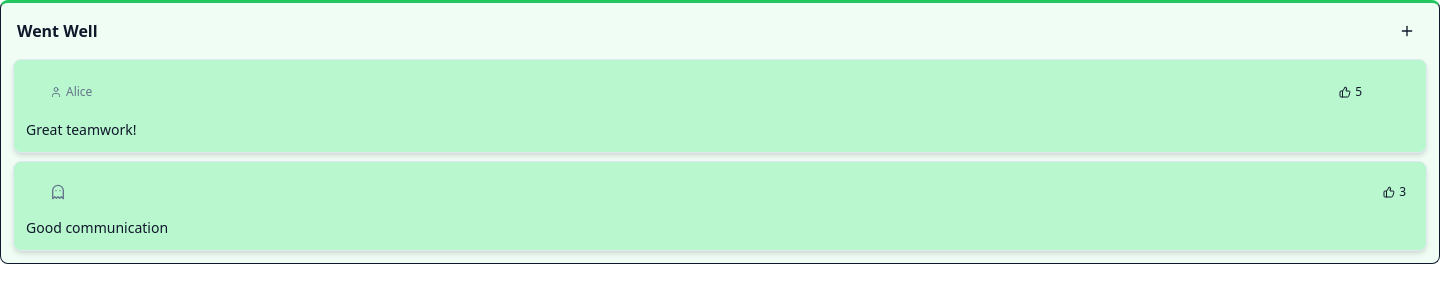
Test: RetroColumn › Edit Column Title (Admin) › should cancel edit when Escape is pressed
This screenshot has width=1440, height=281.
Click the button with aria-label "edit column name".
click(57, 31)  # box [17, 19, 98, 43]
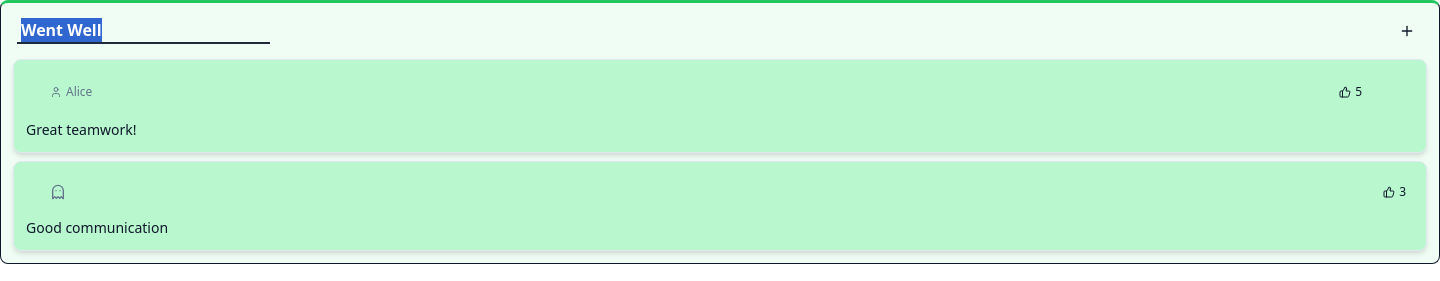
Check: the field is shown, box [17, 18, 270, 44]
Press Escape
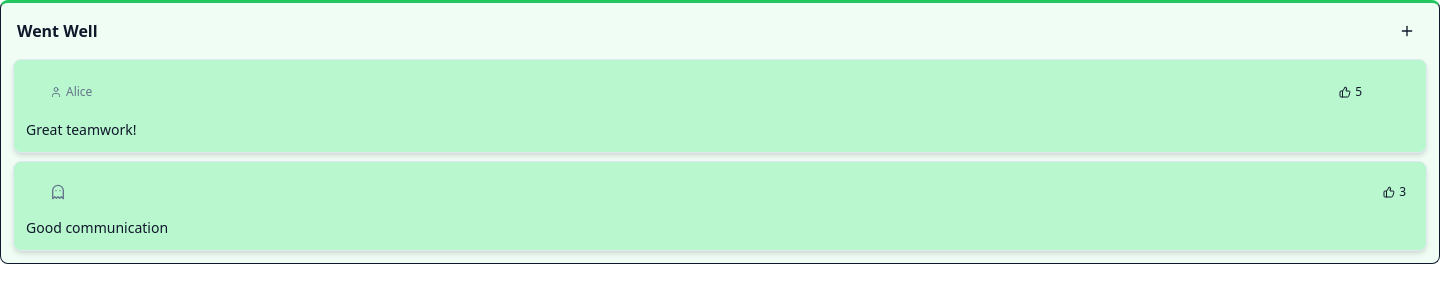
Check: the field is gone
